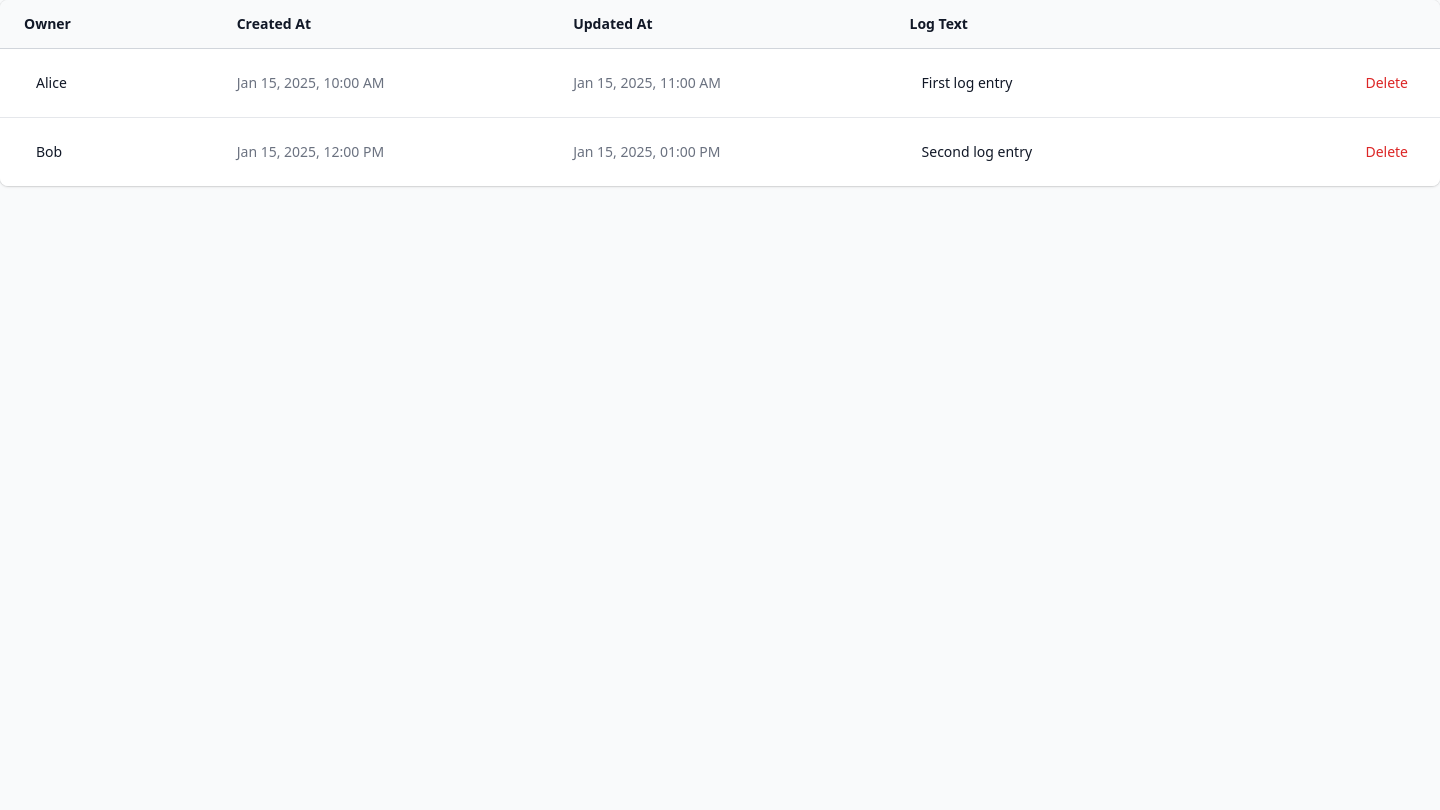
Scenario: LogsTable › should show loading state during deletion
This screenshot has width=1440, height=810.
Click the button with aria-label "delete log by".
click(1387, 83)  # box [1357,69,1416,97]
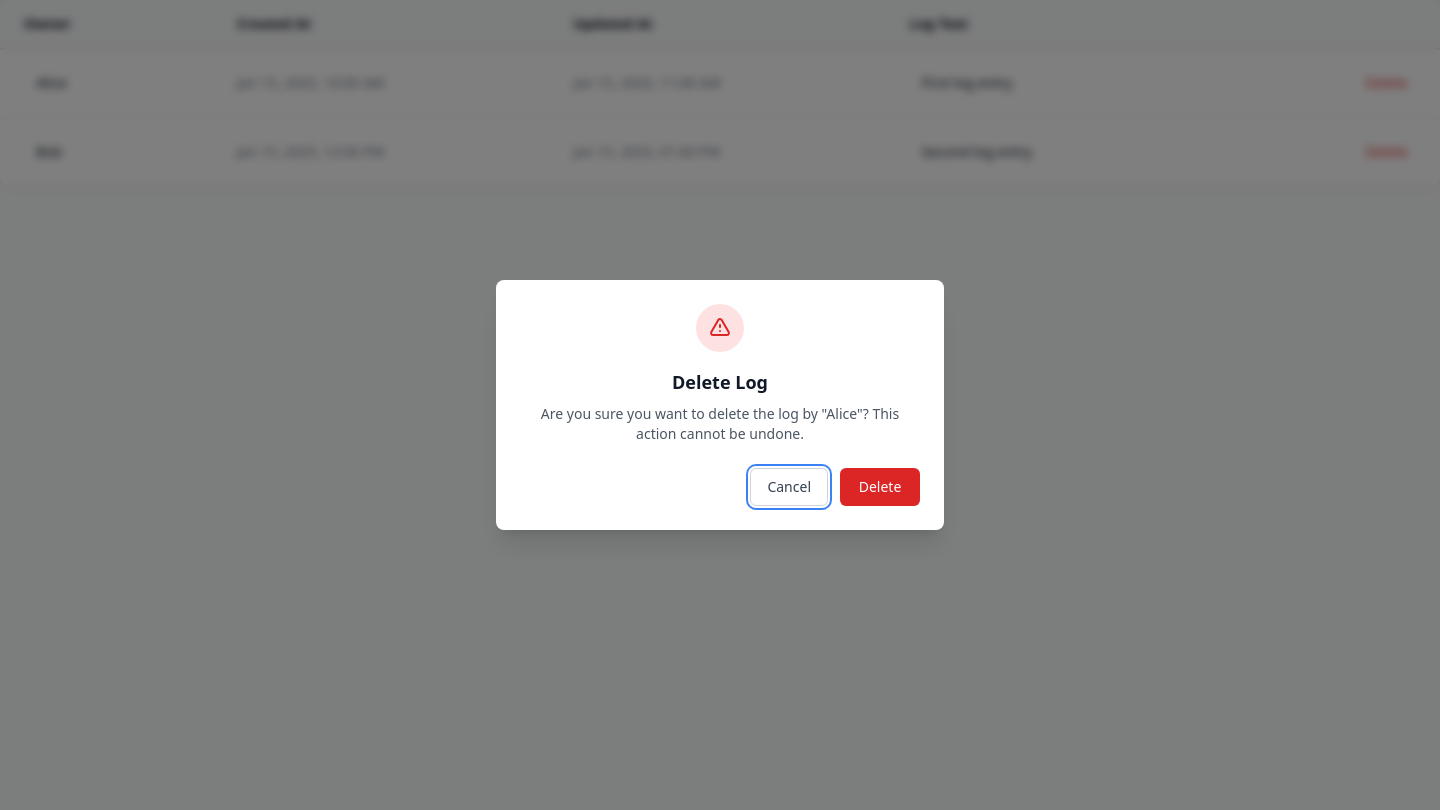
expect the heading "Delete Log" is shown: met, box [672,370,768,394]
Click the button "Delete".
click(880, 487)  # box [840,468,920,506]
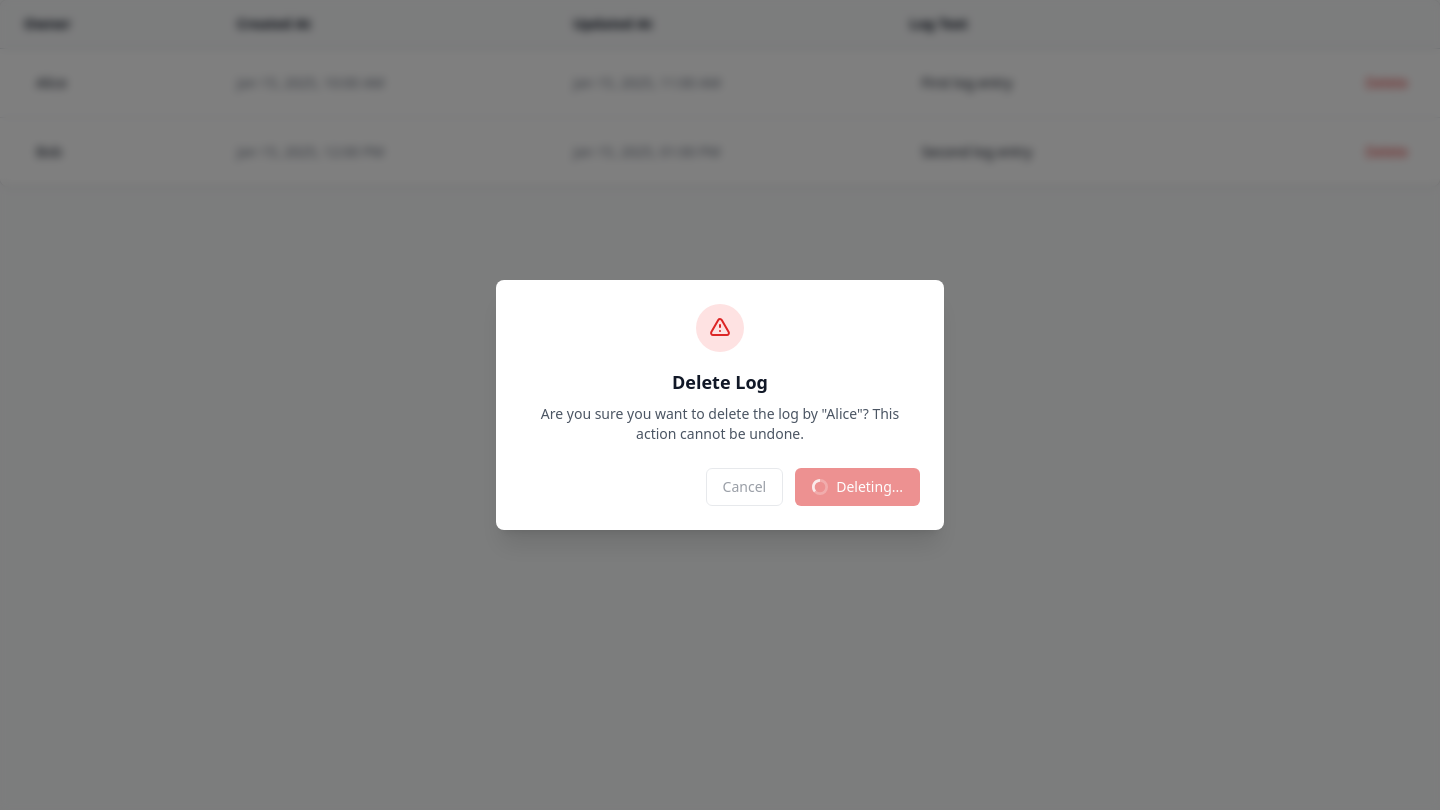
expect the text "Deleting..." is shown: met, box [812,477,903,497]
